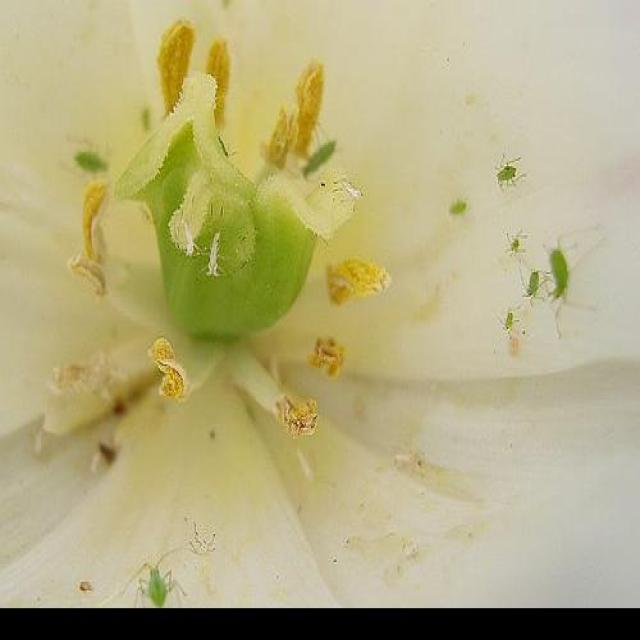Aphids: (539, 239, 578, 330), (474, 143, 534, 202), (132, 542, 176, 609)
